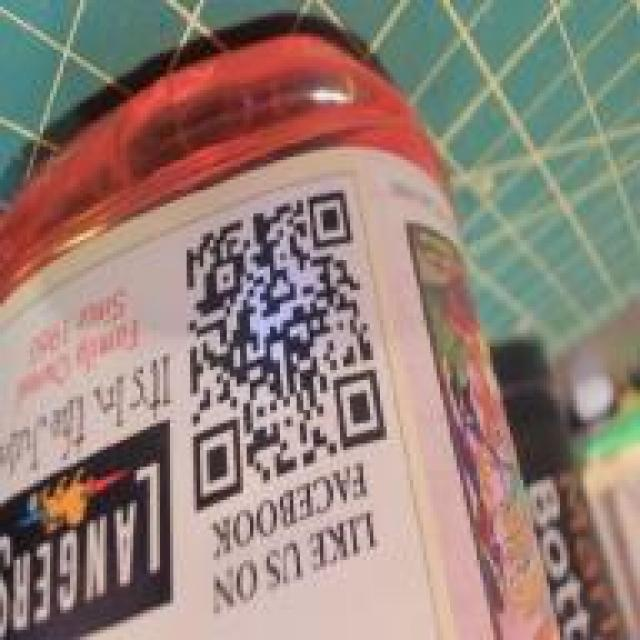QR_CODE: (176, 180, 396, 550)
